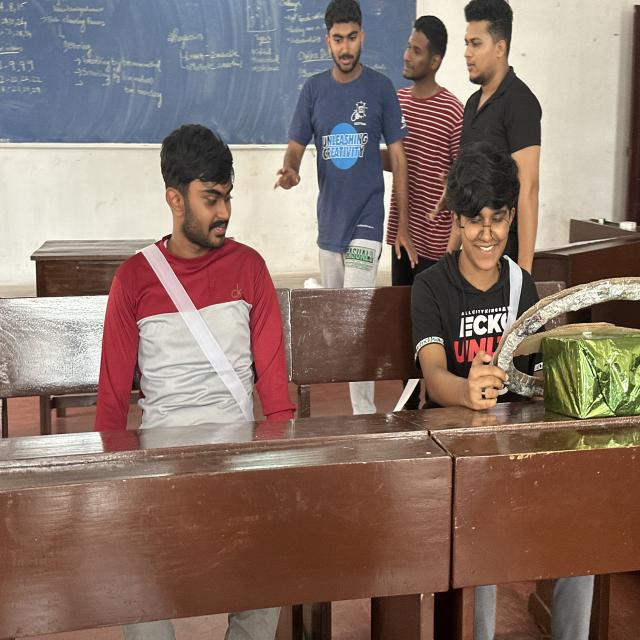seatbelt: (126, 238, 269, 429), (426, 262, 535, 398)
